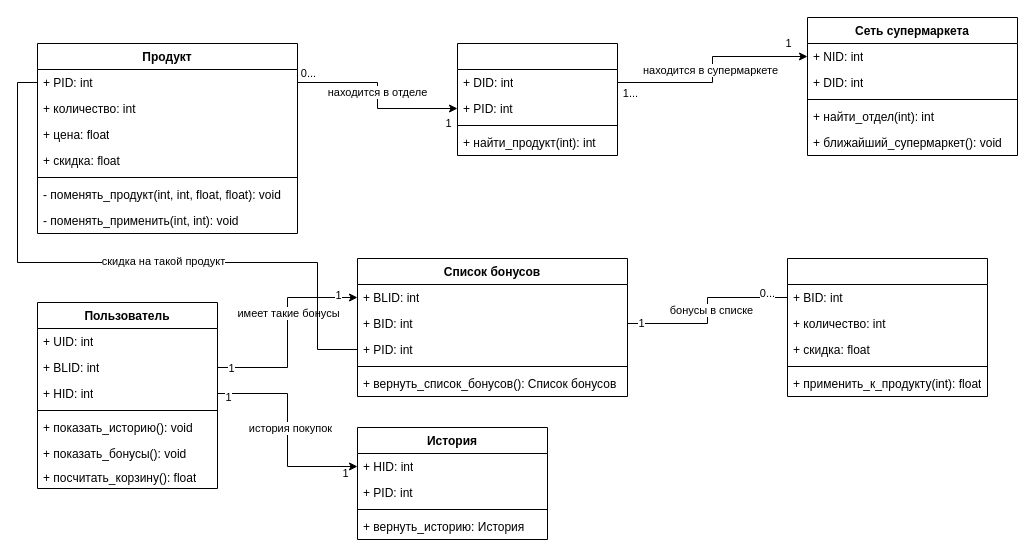
This 1035x560 diagram has some shape labels left out. The shapes that lost their labels are listed below. From the top down, each one's box as (x1, y1, x2, y2) in pixels, then its label:
(456, 42, 618, 156): Отдел
(786, 258, 988, 396): Бонус
